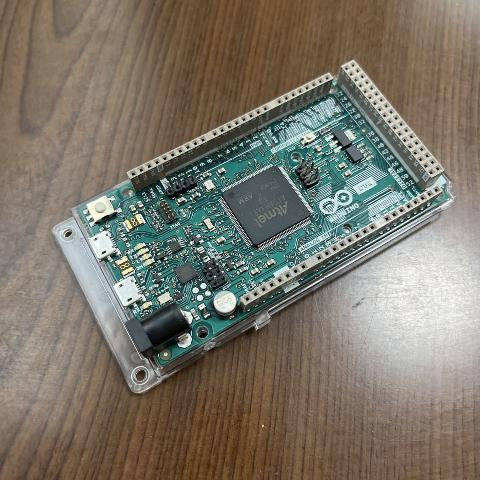Arduino-Due: (69, 60, 458, 376)
